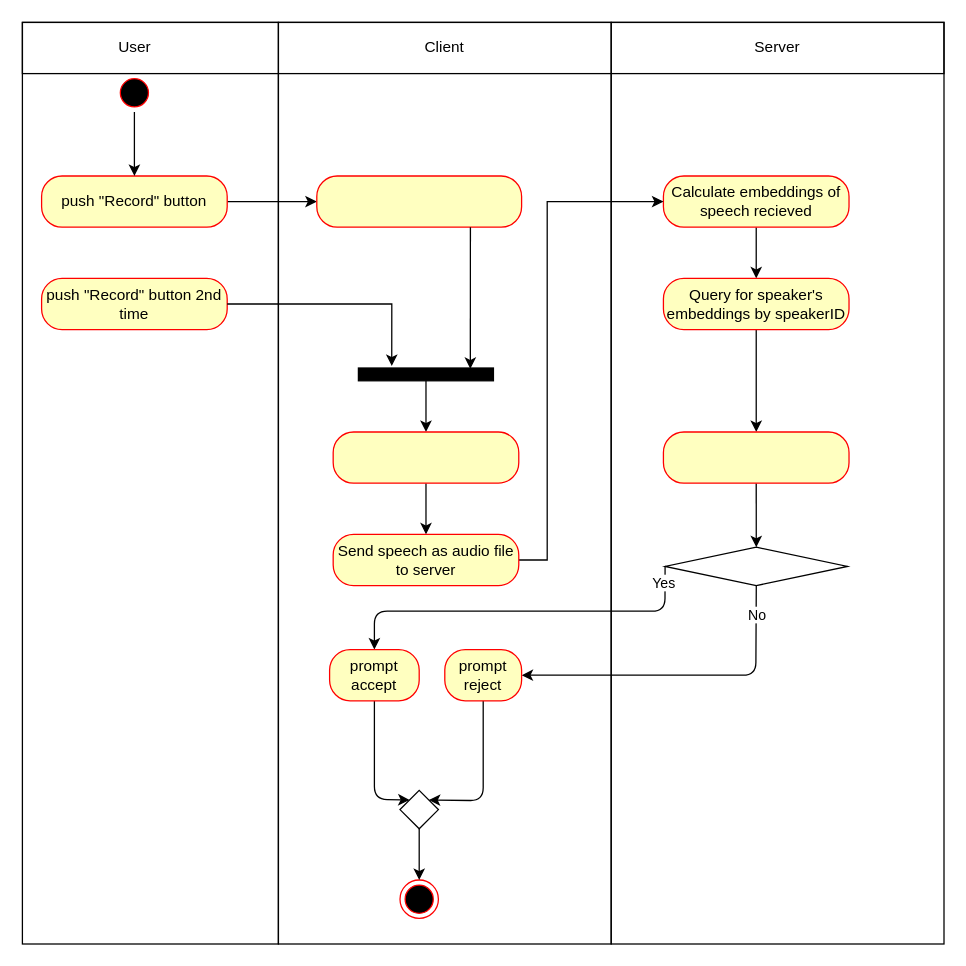
Image size: 966x966. Some labels were removed from this diagram. Each missing label, with the box of its shape:
Calculate cosine similarity: (662, 431, 849, 483)
Score > threshold: (664, 546, 847, 586)
Start grabbing speech frames: (316, 175, 522, 227)
Stop grabbing speech frames: (332, 431, 519, 483)
